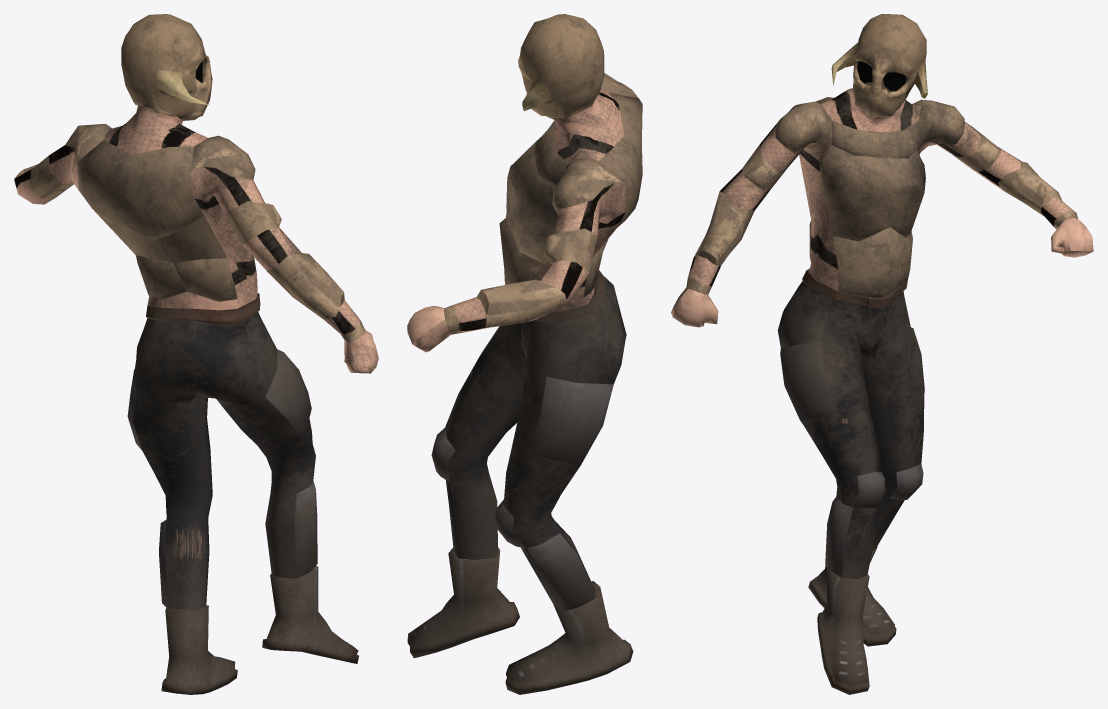
File: Anim_ataque_f1_npc1.0026.obj
The picture shows the model from 3 angles, left to right: view 1: azimuth 30°, elevation 25°; view 2: azimuth 150°, elevation 25°; view 3: azimuth 270°, elevation 25°; orthographic projection. The views are drawn at different scales.
Parts seen in each view (by area): view 1: NPC2; view 2: NPC2; view 3: NPC2.
Part boxes in pixels (x1,y1,x2,y2): NPC2: [14, 14, 378, 694]; NPC2: [407, 14, 642, 694]; NPC2: [671, 14, 1093, 694].
Size of the model in its own units: 3.68 by 9.42 by 5.97.
